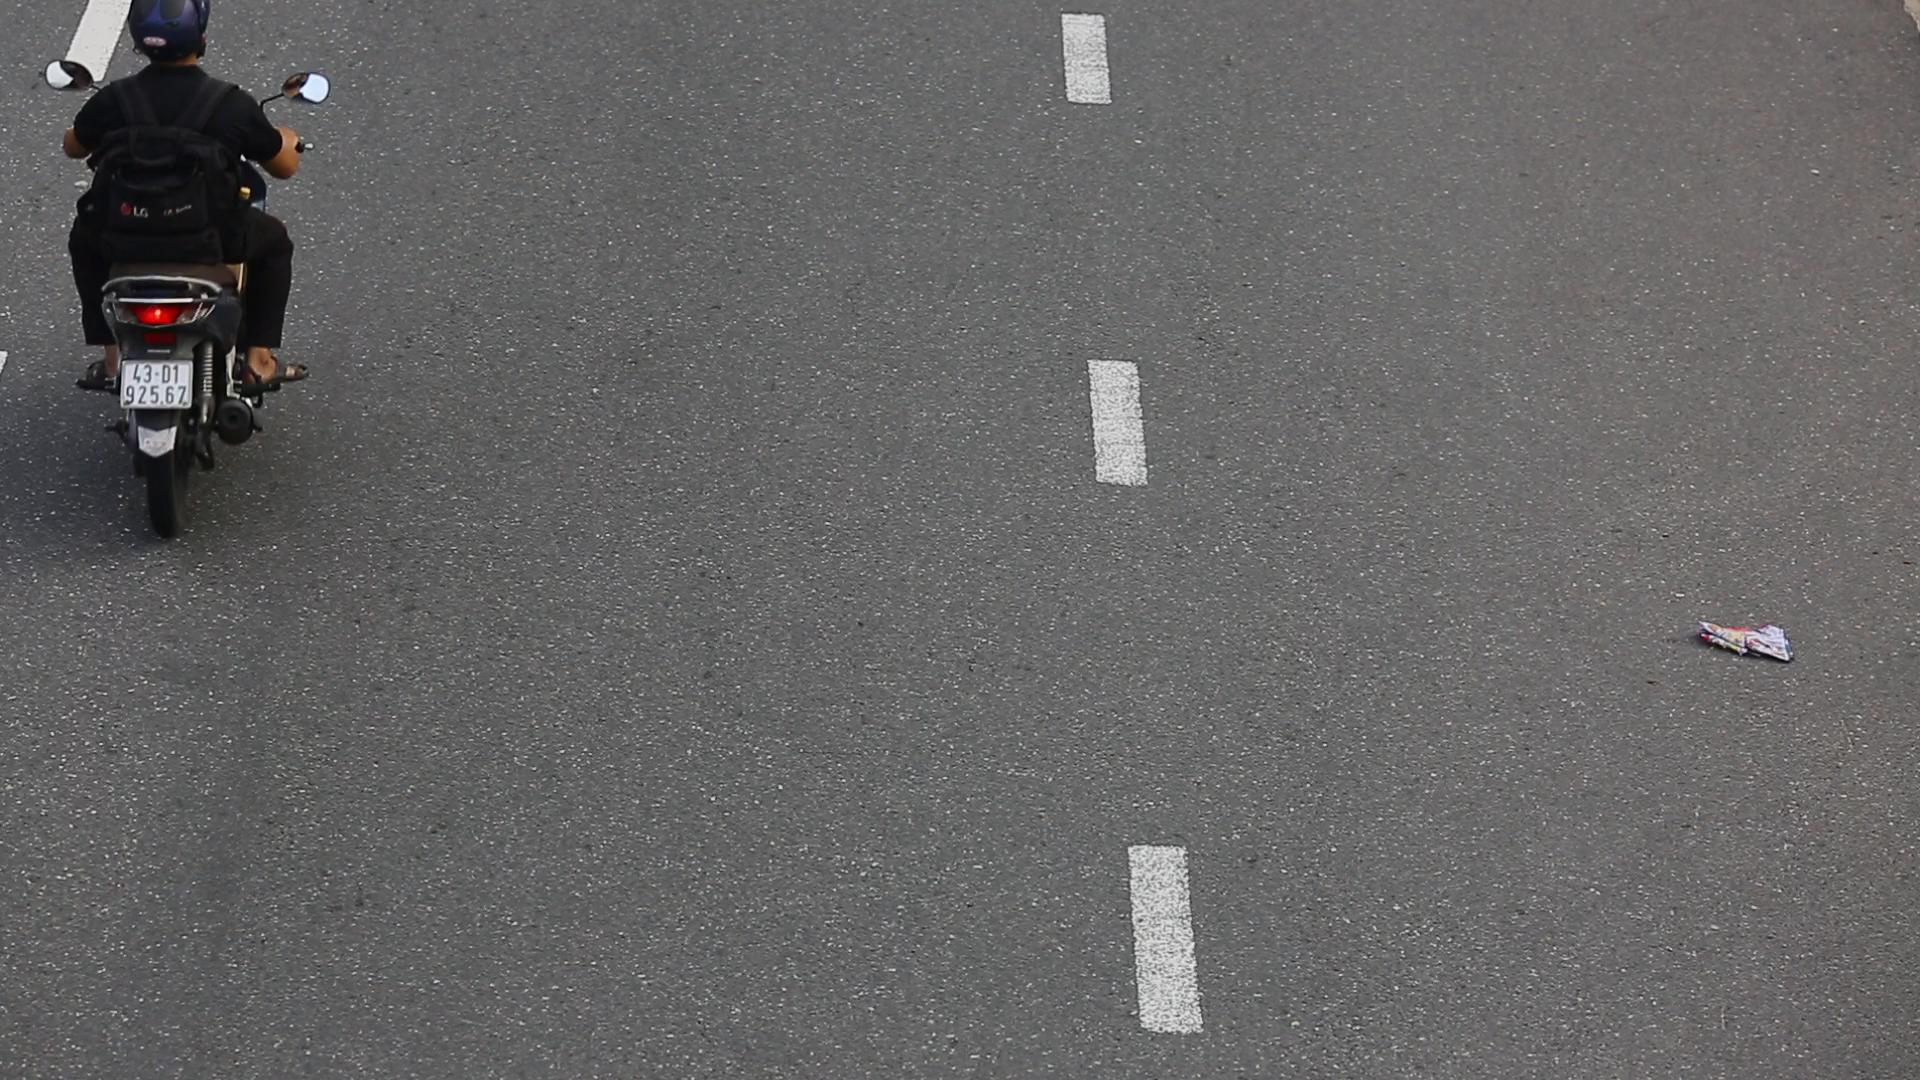motobike: (45, 0, 336, 549)
